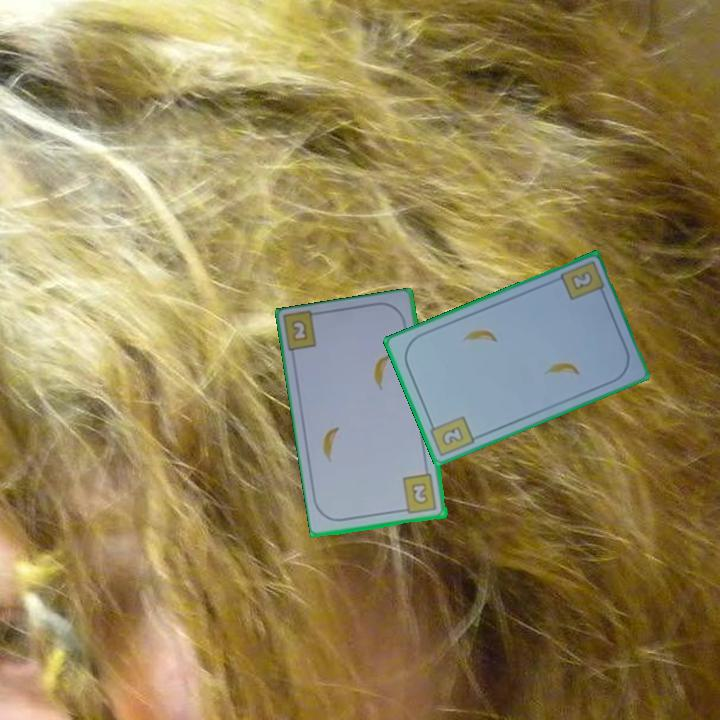2b: (425, 413, 478, 459), (398, 471, 440, 517), (567, 267, 596, 294), (288, 316, 311, 344)
